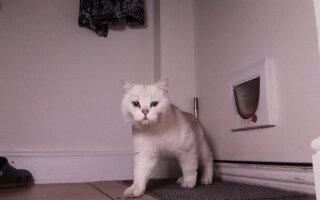bad: (115, 80, 217, 198)
